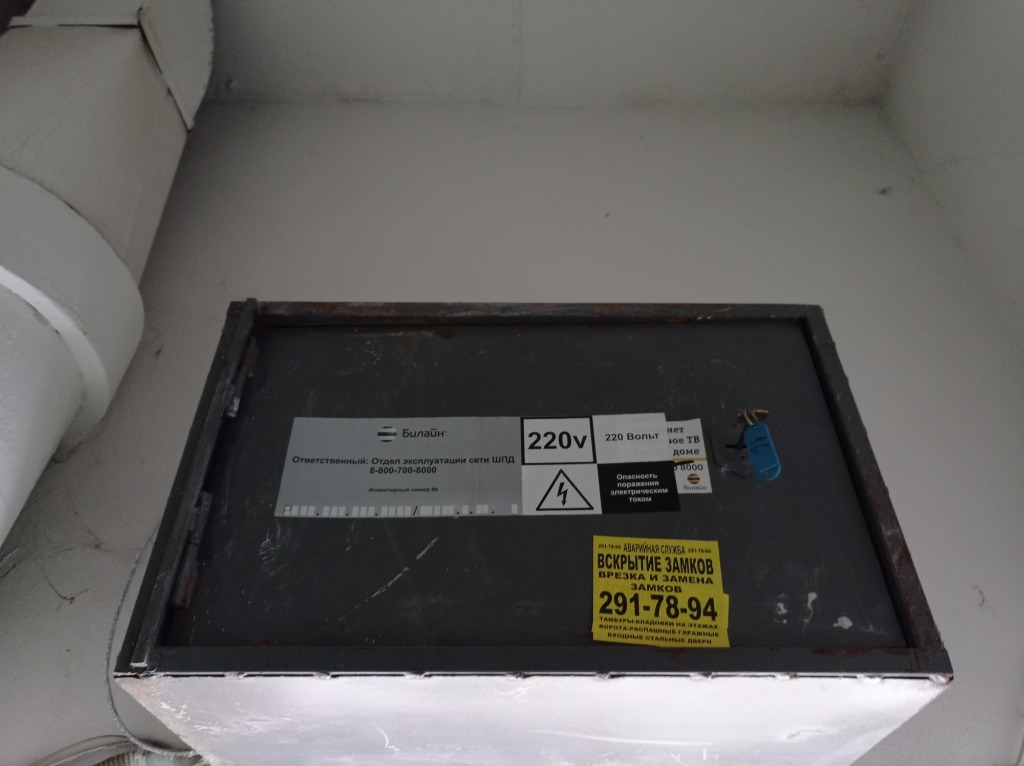e2-6u: (110, 291, 958, 763)
